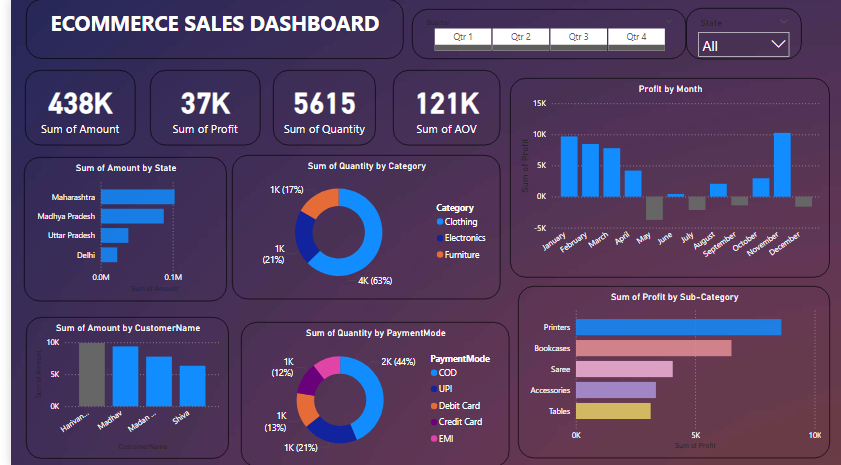

The dashboard page shown, as its layout file describes it:
{"tool":"powerbi","page":{"name":"Page 1","canvas":[1280,720],"ordinal":0},"visuals":[{"type":"textbox","box":[23.5,0,581.2,92.4],"z":0},{"type":"columnChart","title":"Profit by Month","fields":{"Category":["Orders.Order Date.Variation.Date Hierarchy.Month"],"Y":["Details.Profit"]},"box":[767.7,120.9,492.2,307.4],"z":1000},{"type":"barChart","fields":{"Category":["Details.Sub-Category"],"Y":["Details.Profit"]},"box":[779.4,441.8,480.4,265.4],"z":2000},{"type":"donutChart","fields":{"Y":["Details.Quantity"],"Category":["Details.Category"]},"box":[339.3,240.2,413.2,221.7],"z":3000},{"type":"donutChart","fields":{"Y":["Details.Quantity"],"Category":["Details.PaymentMode"]},"box":[354.4,497.2,413.2,223.4],"z":4000},{"type":"card","fields":{"Values":["Details.Amount"]},"box":[21.8,109.2,169.7,115.9],"z":5000},{"type":"card","fields":{"Values":["Details.Profit"]},"box":[213.3,109.2,169.7,115.9],"z":6000},{"type":"card","fields":{"Values":["Details.Quantity"]},"box":[403.1,109.2,157.9,115.9],"z":7000},{"type":"card","fields":{"Values":["Details.AOV"]},"box":[587.9,109.2,164.6,115.9],"z":8000},{"type":"barChart","fields":{"Y":["Details.Amount"],"Category":["Orders.State"]},"box":[20.2,243.6,312.4,221.7],"z":9000},{"type":"columnChart","fields":{"Category":["Orders.CustomerName"],"Y":["Details.Amount"]},"box":[23.5,488.8,312.4,218.4],"z":10000},{"type":"slicer","fields":{"Values":["Orders.Order Date.Variation.Date Hierarchy.Quarter"]},"box":[616.5,15.1,421.6,77.3],"z":11000},{"type":"slicer","fields":{"Values":["Orders.State"]},"box":[1038.1,13.4,178.1,79],"z":12000}]}

Visuals, with their boxes in screenshot pixels (x1, y1, x2, y2), scaled from the page's 1280x720 canvas onto the 841x465 screenshot:
textbox: BBox(15, 0, 397, 60)
"Profit by Month" columnChart: BBox(504, 78, 828, 277)
barChart - Details.Sub-Category x Details.Profit: BBox(512, 285, 828, 457)
donutChart - Details.Quantity x Details.Category: BBox(223, 155, 494, 298)
donutChart - Details.Quantity x Details.PaymentMode: BBox(233, 321, 504, 464)
card - Details.Amount: BBox(14, 71, 126, 145)
card - Details.Profit: BBox(140, 71, 252, 145)
card - Details.Quantity: BBox(265, 71, 369, 145)
card - Details.AOV: BBox(386, 71, 494, 145)
barChart - Details.Amount x Orders.State: BBox(13, 157, 219, 301)
columnChart - Orders.CustomerName x Details.Amount: BBox(15, 316, 221, 457)
slicer - Orders.Order Date.Variation.Date Hierarchy.Quarter: BBox(405, 10, 682, 60)
slicer - Orders.State: BBox(682, 9, 799, 60)
